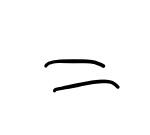eqv: (44, 57, 122, 93)
